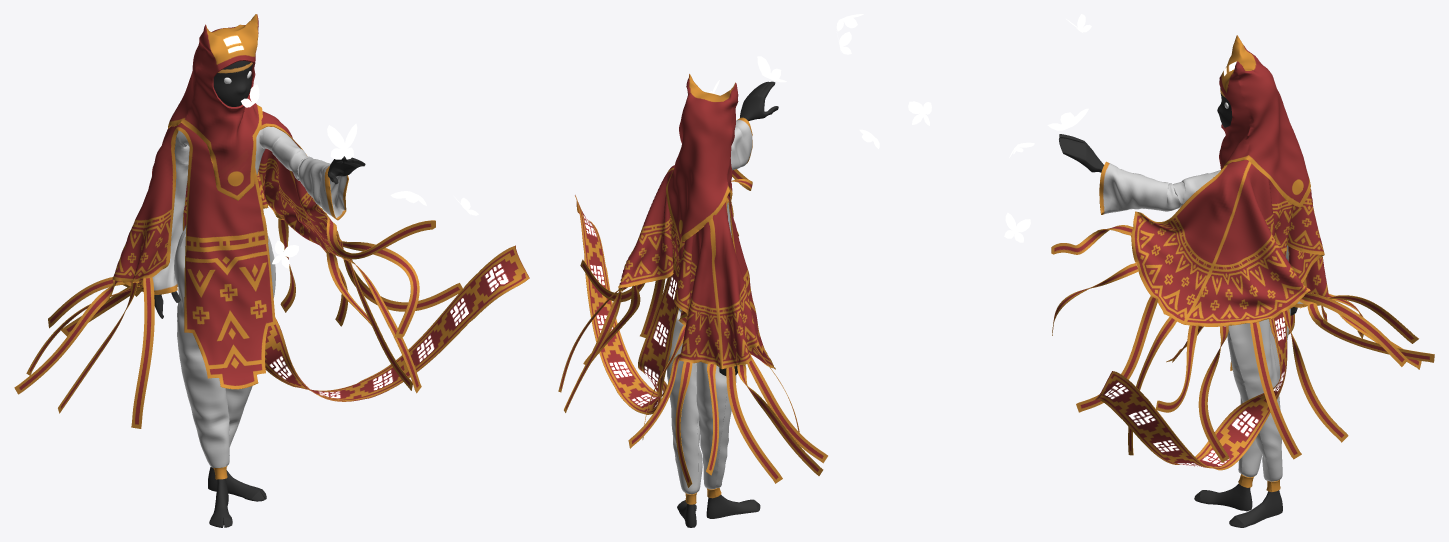
Rendered from journey-character.glb.
3 renders of one model, left to right at view 1: azimuth 30°, elevation 25°; view 2: azimuth 150°, elevation 25°; view 3: azimuth 270°, elevation 25°, orthographic. The views are drawn at different scales.
Visible parts, largest first — view 1: Cloth_and_Cloth_v5:Group29646, Cloth_and_Cloth_v5:Group7207, Cloth_and_Cloth_v5:Group48776, Cloth_and_Cloth_v5:Group19069, Cloth_and_Cloth_v5:Group6155, Cloth_and_Cloth_v5:Group36839, Cloth_and_Cloth_v5:Group25600; view 2: Cloth_and_Cloth_v5:Group29646, Cloth_and_Cloth_v5:Group7207, Cloth_and_Cloth_v5:Group48776, Cloth_and_Cloth_v5:Group19069, Cloth_and_Cloth_v5:Group6155, Cloth_and_Cloth_v5:Group25600, Cloth_and_Cloth_v5:Group36839; view 3: Cloth_and_Cloth_v5:Group29646, Cloth_and_Cloth_v5:Group7207, Cloth_and_Cloth_v5:Group48776, Cloth_and_Cloth_v5:Group19069, Cloth_and_Cloth_v5:Group6155, Cloth_and_Cloth_v5:Group36839, Cloth_and_Cloth_v5:Group25600.
Boxes of the visible parts, x1,y1,x2,y2 form: Cloth_and_Cloth_v5:Group29646: (112, 111, 352, 388); Cloth_and_Cloth_v5:Group7207: (14, 216, 462, 428); Cloth_and_Cloth_v5:Group48776: (168, 14, 262, 200); Cloth_and_Cloth_v5:Group19069: (265, 245, 529, 401); Cloth_and_Cloth_v5:Group6155: (174, 225, 275, 479); Cloth_and_Cloth_v5:Group36839: (152, 126, 348, 294); Cloth_and_Cloth_v5:Group25600: (154, 61, 365, 527); Cloth_and_Cloth_v5:Group29646: (618, 165, 773, 368); Cloth_and_Cloth_v5:Group7207: (558, 169, 827, 487); Cloth_and_Cloth_v5:Group48776: (666, 74, 738, 247); Cloth_and_Cloth_v5:Group19069: (575, 195, 678, 414); Cloth_and_Cloth_v5:Group6155: (666, 308, 736, 504); Cloth_and_Cloth_v5:Group25600: (677, 81, 778, 527); Cloth_and_Cloth_v5:Group36839: (727, 117, 752, 237); Cloth_and_Cloth_v5:Group29646: (1131, 160, 1329, 361); Cloth_and_Cloth_v5:Group7207: (1051, 225, 1434, 462); Cloth_and_Cloth_v5:Group48776: (1219, 35, 1310, 207); Cloth_and_Cloth_v5:Group19069: (1095, 251, 1287, 470); Cloth_and_Cloth_v5:Group6155: (1227, 309, 1290, 492); Cloth_and_Cloth_v5:Group36839: (1099, 161, 1307, 307); Cloth_and_Cloth_v5:Group25600: (1059, 88, 1297, 527).
Bounding box in the file's own units: 146 × 174 × 177.
Materials: 6 (1 with a texture image).
